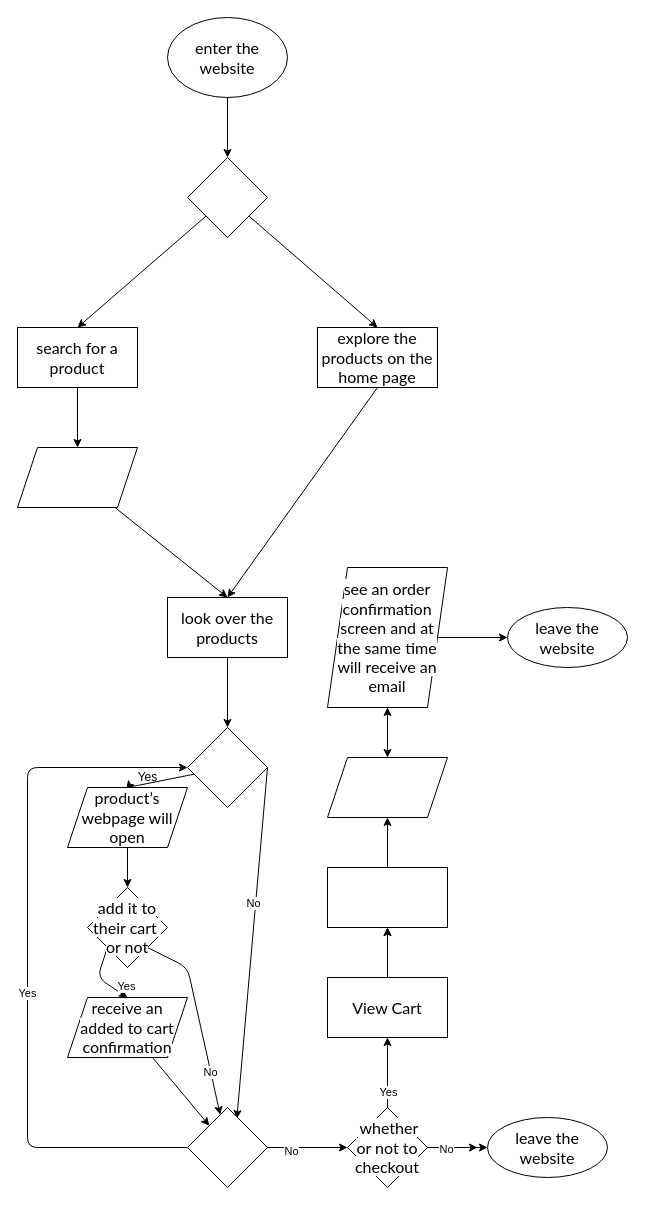
Some shapes in this 645 by 1205 pixel diagram are drawn without their labels. Each missing label, with the centre of its shape:
"give input of their payment information" goes at point 387,787.
"Options" goes at point 227,197.
"provide input to the website of their search" goes at point 77,477.
"view a specific product" goes at point 227,767.
"View Payment" goes at point 387,897.
"whether to continue shopping" goes at point 227,1147.
